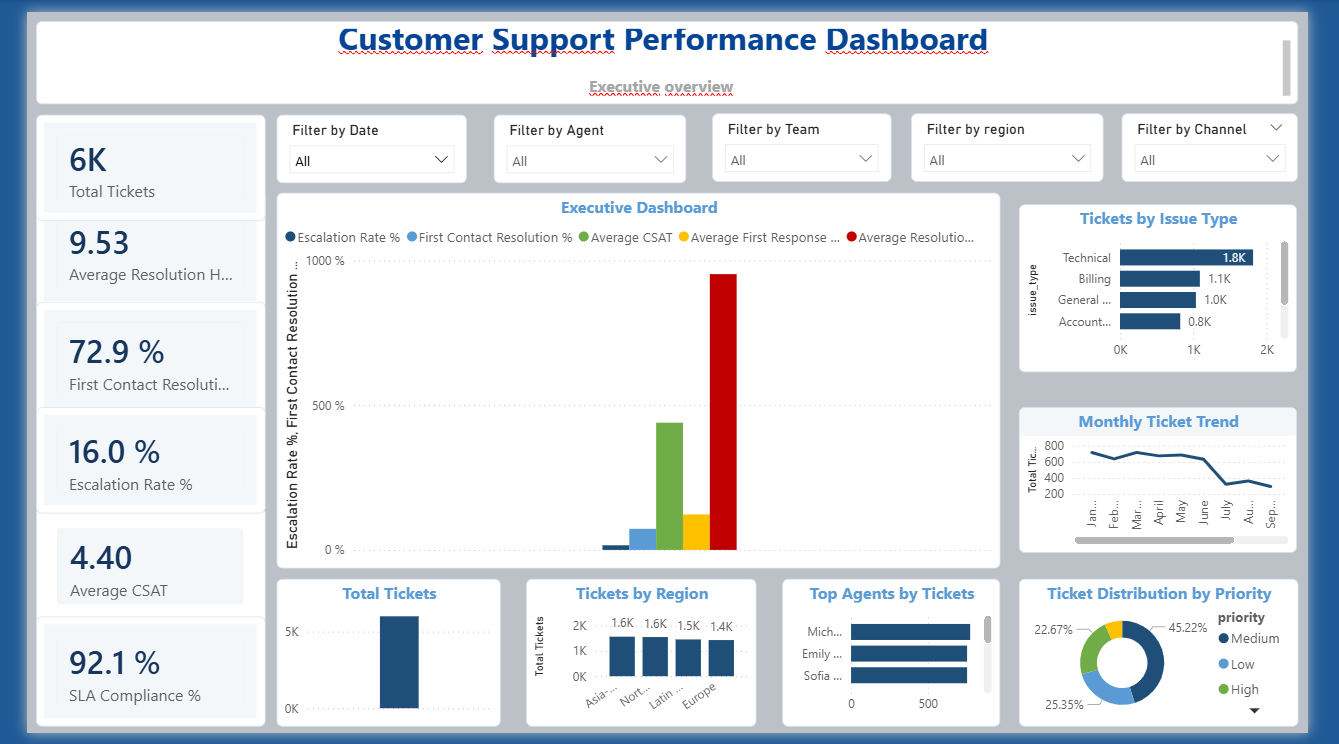

What the dashboard file says about the page in this screenshot:
{"tool":"powerbi","page":{"name":"Executive Overview","canvas":[1280,720],"ordinal":0},"visuals":[{"type":"textbox","box":[9.1,9.1,1261,83.1],"z":0},{"type":"clusteredColumnChart","title":"Executive Dashboard","fields":{"Y":["Fact_SupportTickets.Escalation Rate %","Fact_SupportTickets.First Contact Resolution %","Fact_SupportTickets.Average CSAT","Fact_SupportTickets.Average First Response Hours","Fact_SupportTickets.Average Resolution Hours"]},"box":[248.9,180.1,723,375.3],"z":2000},{"type":"cardVisual","fields":{"Data":["Fact_SupportTickets.Average CSAT"]},"box":[8.8,495.4,228.9,118.8],"z":3000},{"type":"cardVisual","fields":{"Data":["Fact_SupportTickets.SLA Compliance %"]},"box":[8.8,604.2,228.9,110.1],"z":4000},{"type":"cardVisual","fields":{"Data":["Fact_SupportTickets.Average Resolution Hours"]},"box":[8.8,180.1,228.9,117.6],"z":5000},{"type":"cardVisual","fields":{"Data":["Fact_SupportTickets.First Contact Resolution %"]},"box":[8.8,289,228.9,116.3],"z":6000},{"type":"cardVisual","fields":{"Data":["Fact_SupportTickets.Escalation Rate %"]},"box":[8.8,395.3,228.9,106.3],"z":7000},{"type":"lineChart","title":"Monthly Ticket Trend","fields":{"Category":["Fact_SupportTickets.created_date.Variation.Date Hierarchy.Month"],"Y":["Fact_SupportTickets.Total Tickets"]},"box":[990.7,395.3,277.7,145.1],"z":8000},{"type":"clusteredBarChart","title":"Tickets by Issue Type","fields":{"Category":["Fact_SupportTickets.issue_type"],"Y":["Fact_SupportTickets.Total Tickets"]},"box":[990.7,192.6,277.7,167.6],"z":9000},{"type":"clusteredColumnChart","title":"Tickets by Region","fields":{"Category":["Fact_SupportTickets.region"],"Y":["Fact_SupportTickets.Total Tickets"]},"box":[499.1,566.7,230.2,147.6],"z":10000},{"type":"donutChart","title":"Ticket Distribution by Priority","fields":{"Category":["Fact_SupportTickets.priority"],"Y":["Fact_SupportTickets.Total Tickets"]},"box":[990.7,566.7,279,147.6],"z":11000},{"type":"barChart","title":"Top Agents by Tickets","fields":{"Category":["Fact_SupportTickets.agent_name"],"Y":["Fact_SupportTickets.Total Tickets"]},"box":[754.3,566.7,217.7,147.6],"z":12000},{"type":"slicer","fields":{"Values":["Fact_SupportTickets.created_date"]},"box":[248.9,102.6,190.1,68.8],"z":13000},{"type":"slicer","fields":{"Values":["Fact_SupportTickets.agent_name"]},"box":[466.6,102.6,192.6,68.8],"z":14000},{"type":"slicer","fields":{"Values":["Fact_SupportTickets.team_name"]},"box":[684.3,101.3,178.9,68.8],"z":15000},{"type":"slicer","fields":{"Values":["Fact_SupportTickets.region"]},"box":[883.1,101.3,192.6,68.8],"z":16000},{"type":"slicer","fields":{"Values":["Fact_SupportTickets.channel"]},"box":[1093.3,101.3,176.4,68.8],"z":17000},{"type":"cardVisual","fields":{"Data":["Fact_SupportTickets.Total Tickets"]},"box":[8.8,102.6,228.9,106.3],"z":18000},{"type":"clusteredColumnChart","fields":{"Y":["Fact_SupportTickets.Total Tickets"]},"box":[248.9,566.7,223.9,147.6],"z":19000}]}

Visuals, with their boxes in screenshot pixels (x1, y1, x2, y2), scaled from the page's 1280x720 canvas onto the 1339x744 screenshot:
textbox: rect(10, 9, 1329, 95)
"Executive Dashboard" clusteredColumnChart: rect(260, 186, 1017, 574)
cardVisual - Fact_SupportTickets.Average CSAT: rect(9, 512, 249, 635)
cardVisual - Fact_SupportTickets.SLA Compliance %: rect(9, 624, 249, 738)
cardVisual - Fact_SupportTickets.Average Resolution Hours: rect(9, 186, 249, 308)
cardVisual - Fact_SupportTickets.First Contact Resolution %: rect(9, 299, 249, 419)
cardVisual - Fact_SupportTickets.Escalation Rate %: rect(9, 408, 249, 518)
"Monthly Ticket Trend" lineChart: rect(1036, 408, 1327, 558)
"Tickets by Issue Type" clusteredBarChart: rect(1036, 199, 1327, 372)
"Tickets by Region" clusteredColumnChart: rect(522, 586, 763, 738)
"Ticket Distribution by Priority" donutChart: rect(1036, 586, 1328, 738)
"Top Agents by Tickets" barChart: rect(789, 586, 1017, 738)
slicer - Fact_SupportTickets.created_date: rect(260, 106, 459, 177)
slicer - Fact_SupportTickets.agent_name: rect(488, 106, 690, 177)
slicer - Fact_SupportTickets.team_name: rect(716, 105, 903, 176)
slicer - Fact_SupportTickets.region: rect(924, 105, 1125, 176)
slicer - Fact_SupportTickets.channel: rect(1144, 105, 1328, 176)
cardVisual - Fact_SupportTickets.Total Tickets: rect(9, 106, 249, 216)
clusteredColumnChart - Fact_SupportTickets.Total Tickets: rect(260, 586, 495, 738)
